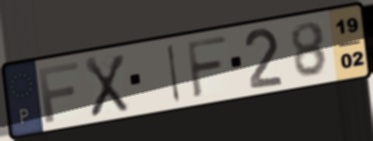2: (244, 25, 285, 90)
8: (288, 20, 329, 80)
F: (184, 34, 230, 101), (35, 59, 81, 125)
I: (165, 41, 183, 105)
X: (82, 52, 130, 120)
